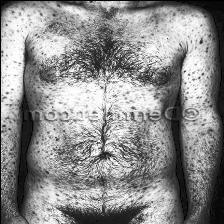Toxin: (0, 9, 211, 217)
